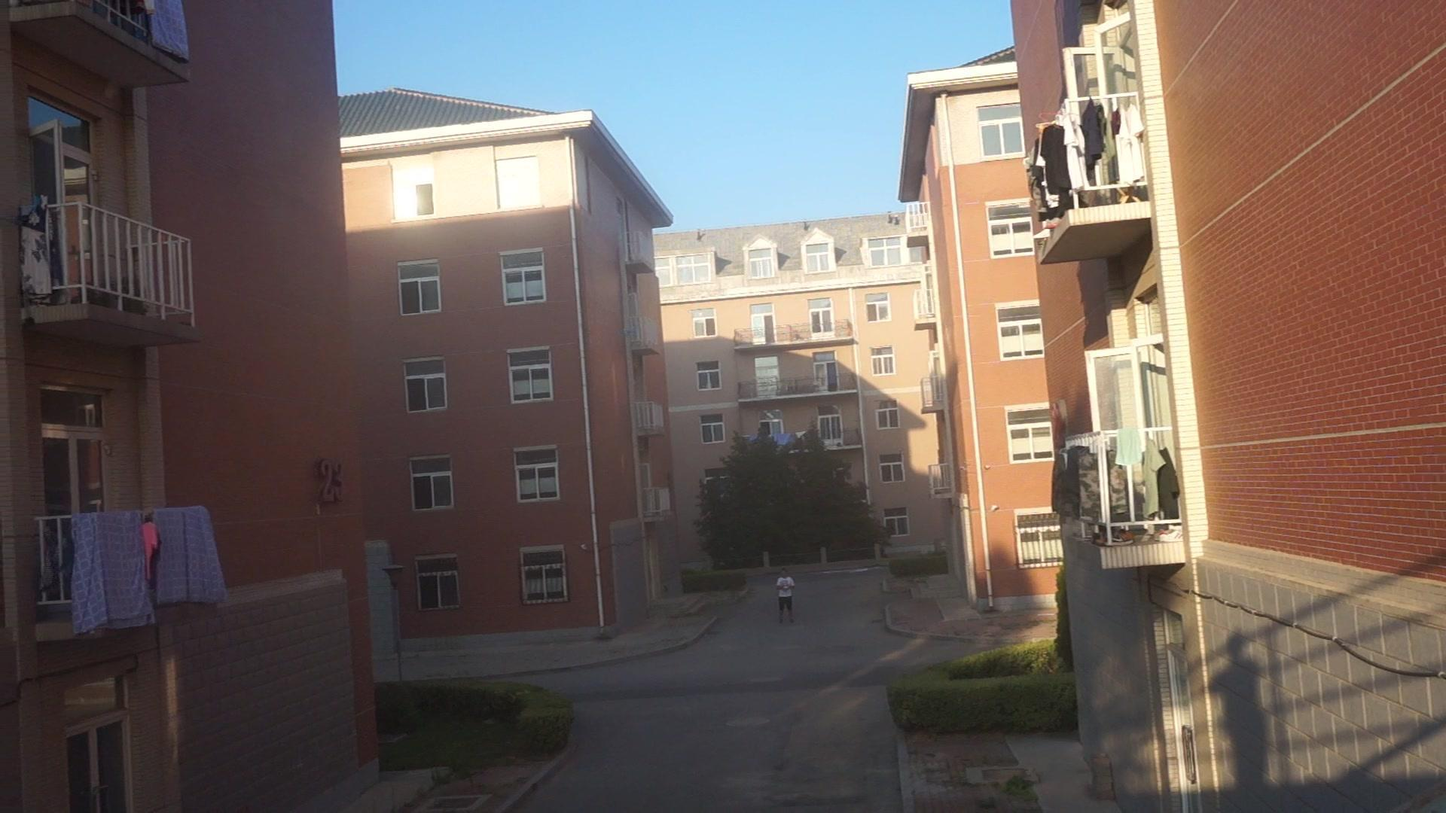UAV: (619, 327, 638, 336)
